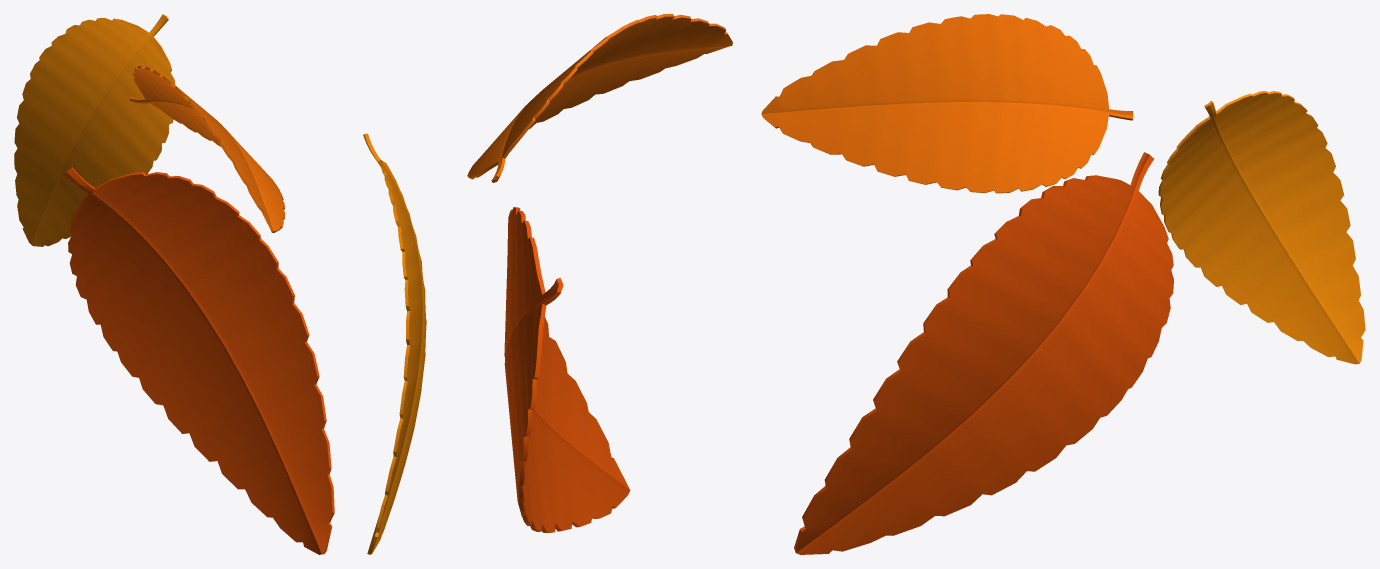
Rendered from Fallen Leaf.gltf.
3 renders of one model, left to right at view 1: azimuth 30°, elevation 25°; view 2: azimuth 150°, elevation 25°; view 3: azimuth 270°, elevation 25°, orthographic. The views are drawn at different scales.
Visible parts, largest first — view 1: Circle.2093, Circle.2095, Circle.2094; view 2: Circle.2093, Circle.2094, Circle.2095; view 3: Circle.2093, Circle.2094, Circle.2095.
Boxes of the visible parts, left/top/right/bottom form: Circle.2093: left=64, top=167, right=334, bottom=554; Circle.2095: left=14, top=14, right=175, bottom=246; Circle.2094: left=129, top=66, right=285, bottom=232; Circle.2093: left=504, top=207, right=630, bottom=532; Circle.2094: left=467, top=14, right=732, bottom=182; Circle.2095: left=363, top=133, right=426, bottom=554; Circle.2093: left=794, top=152, right=1173, bottom=554; Circle.2094: left=761, top=14, right=1133, bottom=193; Circle.2095: left=1158, top=91, right=1365, bottom=364.
Size of the model in its own units: 0.5198 by 1.6 by 1.75.
1 material, 1 textured.
